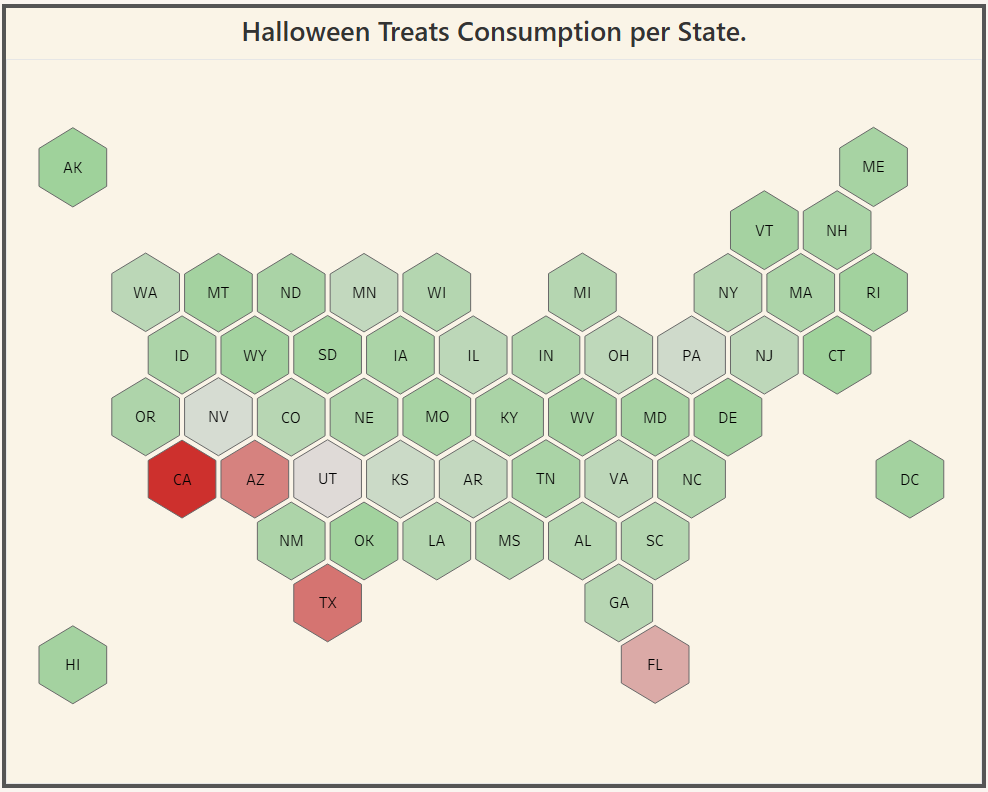

Layout of this report page (visuals, bound fields, positions):
{"tool":"tableau","page":{"name":"Dashboard 1","canvas":[1000,800],"ordinal":0},"visuals":[{"type":"worksheet","title":"Sheet 1","mark":"Automatic","box":[8,8,984,784]}]}

Visuals, with their boxes in screenshot pixels (x1, y1, x2, y2), scaled from the page's 1000x800 canvas onto the 988x792 screenshot:
"Sheet 1" worksheet: detection(8, 8, 980, 784)
